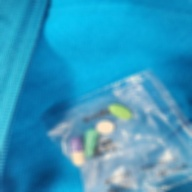러키펜정: (96, 121, 115, 135)
씨엠지세파클러캡슐: (70, 138, 86, 167)
에르도캡슐: (84, 129, 99, 159)
휴티렌정: (108, 104, 133, 120)
